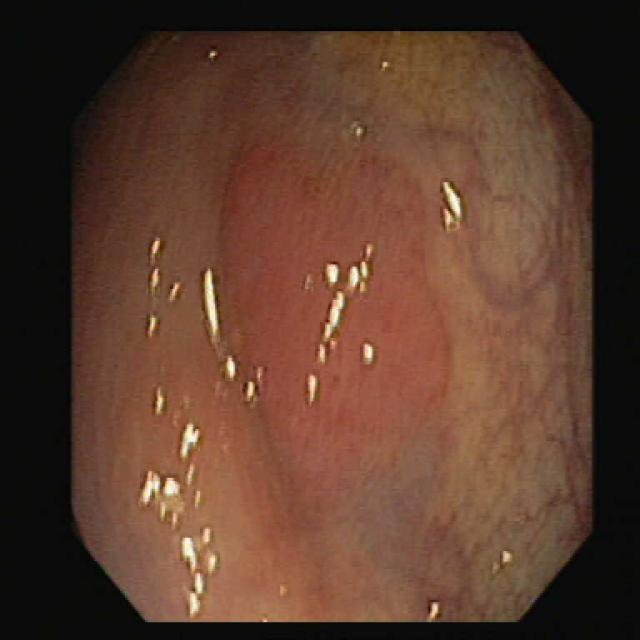tumor: (223, 138, 443, 489)
